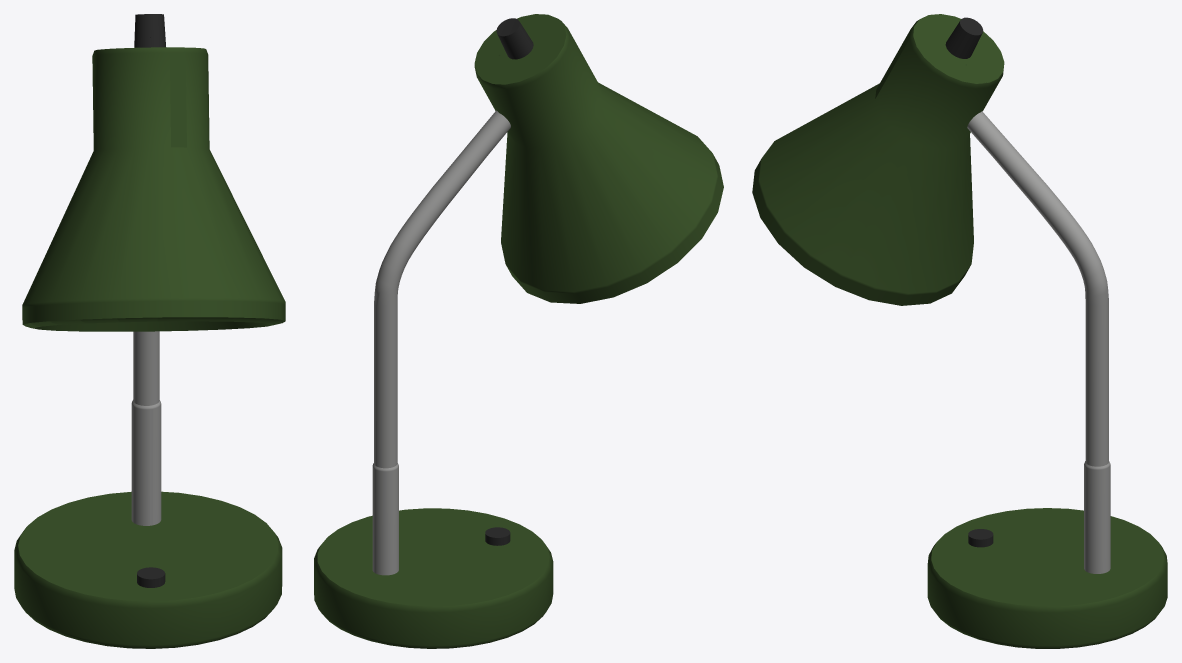
Rendered from Lamp_Textured_title.fbx.
3 views of the same model, side by side, from view 1: azimuth 30°, elevation 25°; view 2: azimuth 150°, elevation 25°; view 3: azimuth 270°, elevation 25° (orthographic). The views are drawn at different scales.
Visible parts, largest first — view 1: LampDeskHead, BaseLampDesk, LampDeskNeck, LampDeskButton; view 2: LampDeskHead, BaseLampDesk, LampDeskNeck; view 3: LampDeskHead, BaseLampDesk, LampDeskNeck.
Boxes of the visible parts, x1,y1,x2,y2 form: LampDeskHead: (22,14,285,331); BaseLampDesk: (14,491,282,648); LampDeskNeck: (131,331,161,525); LampDeskButton: (137,567,165,587); LampDeskHead: (474,14,723,303); BaseLampDesk: (314,508,553,648); LampDeskNeck: (372,110,510,575); LampDeskHead: (752,14,1004,305); BaseLampDesk: (927,508,1167,648); LampDeskNeck: (967,111,1110,573).
Bounding box in the file's own units: 0.8501 × 1.56 × 1.05.
